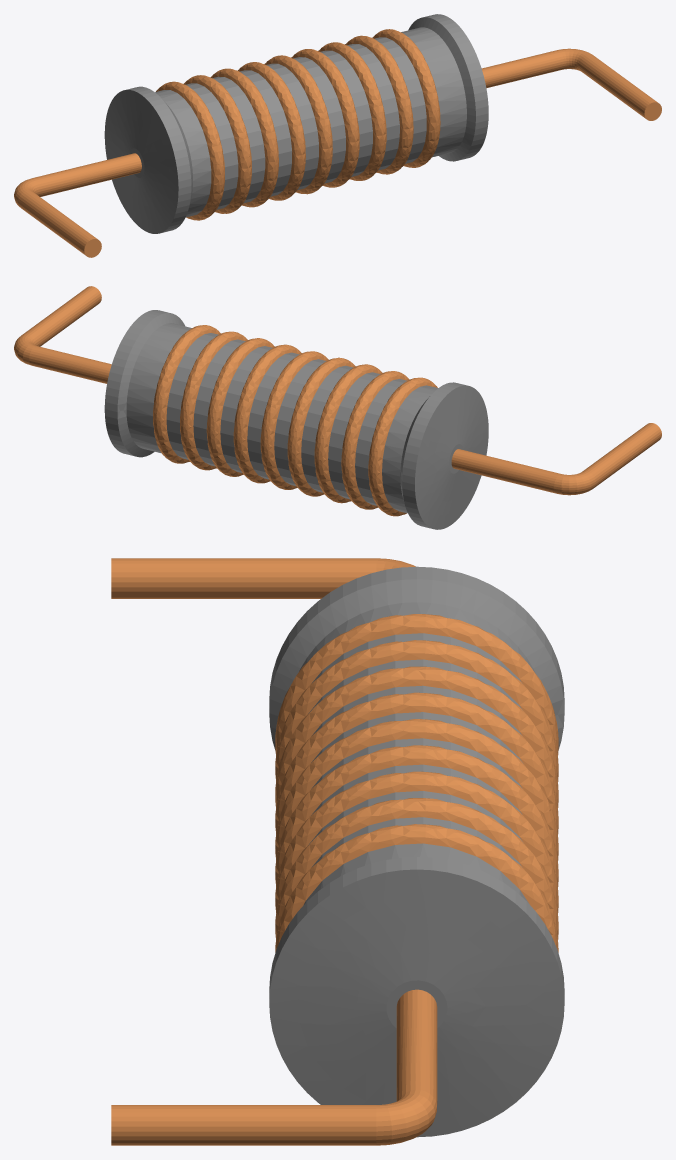
File: L_Axial_L14.5mm_D5.8mm_P25.40mm_Horizontal_Fastron_HBCC.glb
The picture shows the model from 3 angles, top to bottom: view 1: azimuth 30°, elevation 25°; view 2: azimuth 150°, elevation 25°; view 3: azimuth 270°, elevation 25°; orthographic projection. The views are drawn at different scales.
Parts seen in each view (by area): view 1: Shape_IndexedFaceSet.029, Shape_IndexedFaceSet.005, Shape_IndexedFaceSet.026, Shape_IndexedFaceSet.007, Shape_IndexedFaceSet.019, Shape_IndexedFaceSet.025, Shape_IndexedFaceSet.015, Shape_IndexedFaceSet.023, Shape_IndexedFaceSet.021, Shape_IndexedFaceSet.011, Shape_IndexedFaceSet.013, Shape_IndexedFaceSet.017 (+16 smaller); view 2: Shape_IndexedFaceSet.029, Shape_IndexedFaceSet.005, Shape_IndexedFaceSet.026, Shape_IndexedFaceSet.021, Shape_IndexedFaceSet.017, Shape_IndexedFaceSet.025, Shape_IndexedFaceSet.015, Shape_IndexedFaceSet.019, Shape_IndexedFaceSet.023, Shape_IndexedFaceSet.013, Shape_IndexedFaceSet.031, Shape_IndexedFaceSet.007 (+17 smaller); view 3: Shape_IndexedFaceSet, Shape_IndexedFaceSet.008, Shape_IndexedFaceSet.033, Shape_IndexedFaceSet.027, Shape_IndexedFaceSet.013, Shape_IndexedFaceSet.011, Shape_IndexedFaceSet.021, Shape_IndexedFaceSet.019, Shape_IndexedFaceSet.025, Shape_IndexedFaceSet.015, Shape_IndexedFaceSet.017, Shape_IndexedFaceSet.023 (+16 smaller).
Boxes of the visible parts, bbox=[...] form: Shape_IndexedFaceSet.029: bbox=[104, 90, 178, 233]; Shape_IndexedFaceSet.005: bbox=[401, 27, 466, 157]; Shape_IndexedFaceSet.026: bbox=[155, 90, 211, 217]; Shape_IndexedFaceSet.007: bbox=[372, 29, 440, 167]; Shape_IndexedFaceSet.019: bbox=[238, 62, 305, 200]; Shape_IndexedFaceSet.025: bbox=[156, 81, 224, 220]; Shape_IndexedFaceSet.015: bbox=[291, 49, 359, 187]; Shape_IndexedFaceSet.023: bbox=[184, 75, 251, 213]; Shape_IndexedFaceSet.021: bbox=[210, 68, 278, 207]; Shape_IndexedFaceSet.011: bbox=[345, 35, 413, 174]; Shape_IndexedFaceSet.013: bbox=[318, 42, 386, 180]; Shape_IndexedFaceSet.017: bbox=[264, 55, 332, 194]; Shape_IndexedFaceSet.029: bbox=[415, 385, 488, 529]; Shape_IndexedFaceSet.005: bbox=[126, 323, 191, 453]; Shape_IndexedFaceSet.026: bbox=[382, 385, 437, 513]; Shape_IndexedFaceSet.021: bbox=[314, 364, 382, 503]; Shape_IndexedFaceSet.017: bbox=[260, 351, 328, 489]; Shape_IndexedFaceSet.025: bbox=[368, 377, 437, 516]; Shape_IndexedFaceSet.015: bbox=[233, 344, 301, 483]; Shape_IndexedFaceSet.019: bbox=[287, 357, 355, 496]; Shape_IndexedFaceSet.023: bbox=[341, 371, 409, 509]; Shape_IndexedFaceSet.013: bbox=[206, 338, 274, 476]; Shape_IndexedFaceSet.031: bbox=[451, 449, 560, 493]; Shape_IndexedFaceSet.007: bbox=[153, 325, 220, 463]; Shape_IndexedFaceSet: bbox=[269, 869, 564, 1137]; Shape_IndexedFaceSet.008: bbox=[111, 1105, 376, 1145]; Shape_IndexedFaceSet.033: bbox=[111, 558, 376, 598]; Shape_IndexedFaceSet.027: bbox=[269, 579, 564, 750]; Shape_IndexedFaceSet.013: bbox=[275, 771, 558, 912]; Shape_IndexedFaceSet.011: bbox=[275, 798, 558, 939]; Shape_IndexedFaceSet.021: bbox=[275, 666, 558, 807]; Shape_IndexedFaceSet.019: bbox=[275, 692, 558, 833]; Shape_IndexedFaceSet.025: bbox=[275, 614, 558, 755]; Shape_IndexedFaceSet.015: bbox=[275, 745, 558, 886]; Shape_IndexedFaceSet.017: bbox=[275, 719, 558, 860]; Shape_IndexedFaceSet.023: bbox=[275, 640, 558, 781].
Bounding box in the file's own units: 10.31 × 2.28 × 3.5.
